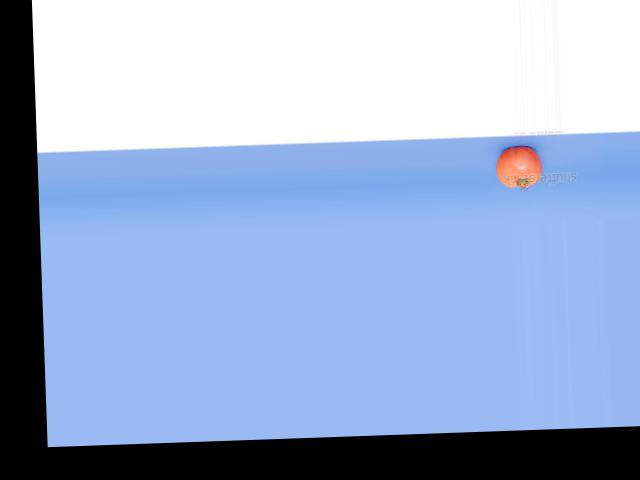tomato: (494, 146, 541, 188)
